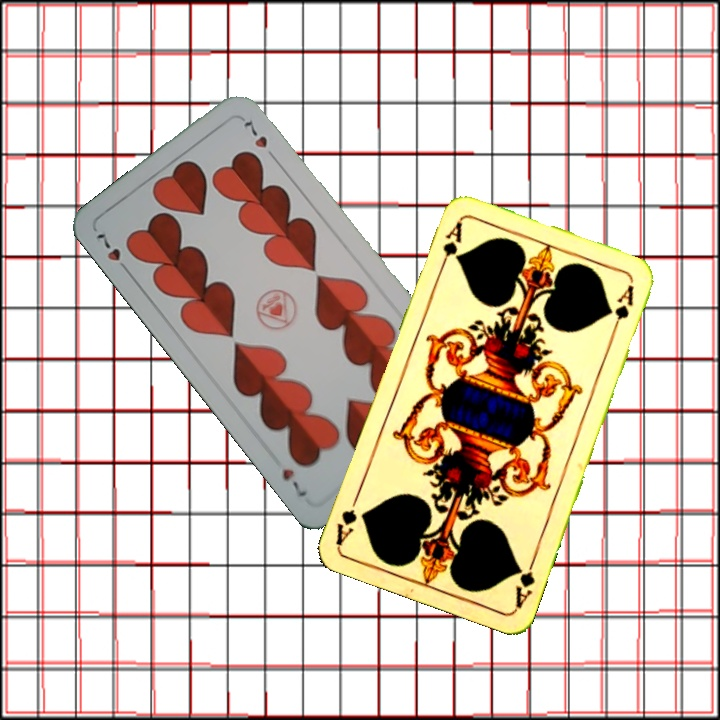GA: (436, 217, 465, 274), (511, 553, 538, 611)
H7: (92, 227, 133, 277)
